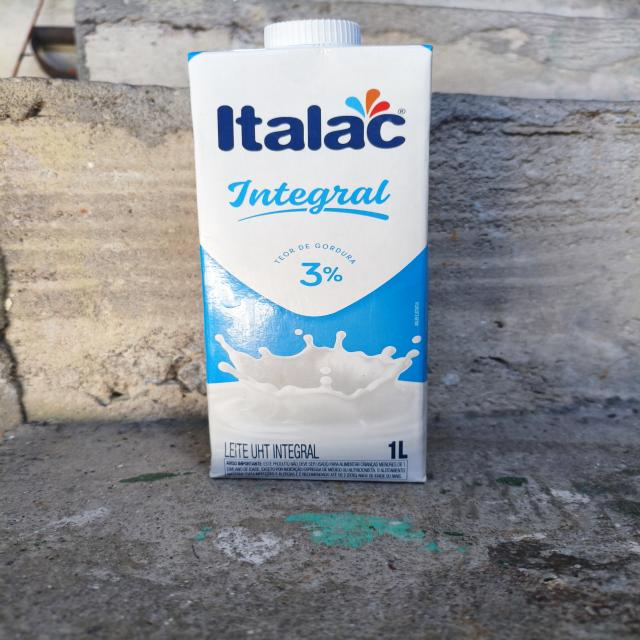Caixa de Leite: (186, 19, 436, 485)
